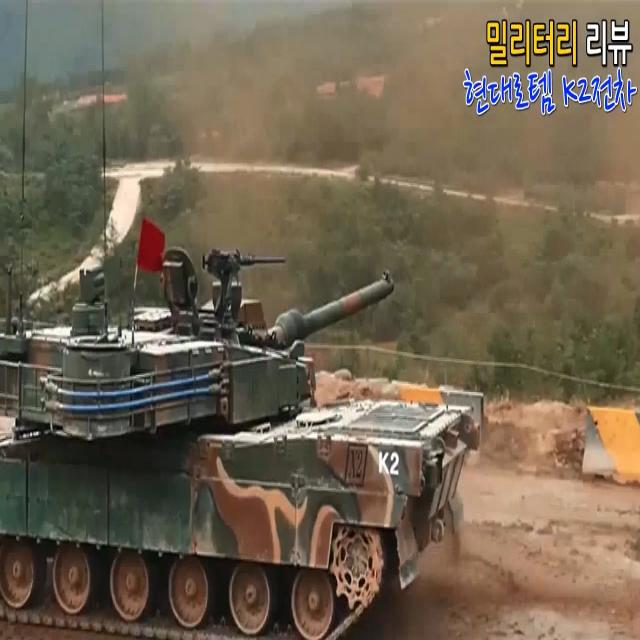korea tank: (1, 248, 483, 640)
